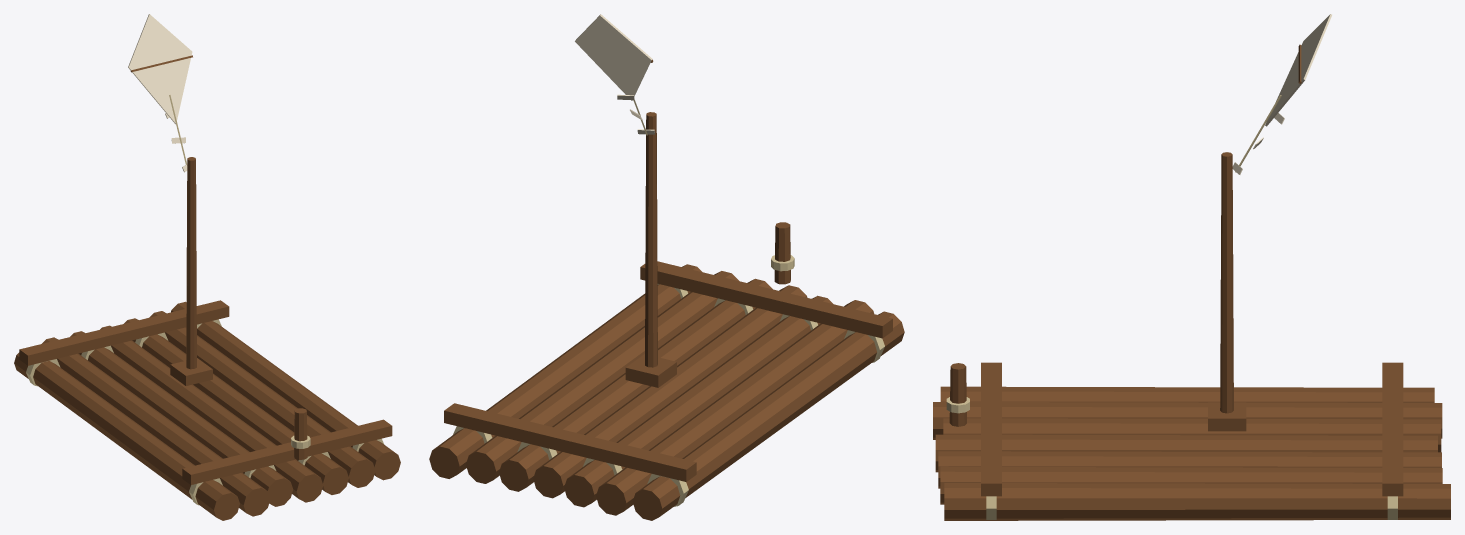
The model's file is Prop_Sky_Raft.glb.
3 renders of one model, left to right at view 1: azimuth 30°, elevation 25°; view 2: azimuth 150°, elevation 25°; view 3: azimuth 270°, elevation 25°, orthographic. The views are drawn at different scales.
Parts seen in each view (by area): view 1: Prop_Sky_Raft; view 2: Prop_Sky_Raft; view 3: Prop_Sky_Raft.
Boxes of the visible parts, x1,y1,x2,y2 form: Prop_Sky_Raft: (14,14,400,520); Prop_Sky_Raft: (429,14,904,520); Prop_Sky_Raft: (933,14,1450,520).
Size of what is drawn, in the model's own units: 1.64 by 2.89 by 2.97.
